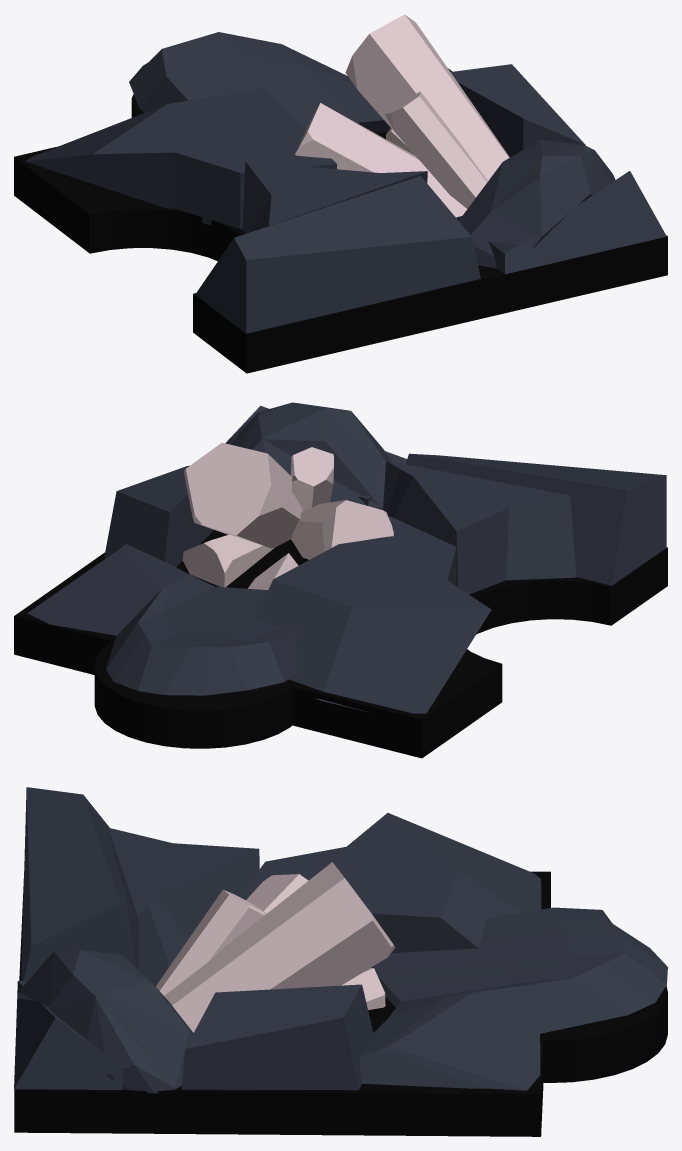
File: peça 4.fbx
3 renders of one model, top to bottom at view 1: azimuth 30°, elevation 25°; view 2: azimuth 150°, elevation 25°; view 3: azimuth 270°, elevation 25°, orthographic. The views are drawn at different scales.
Parts seen in each view (by area): view 1: Cube.037, crystal_basalt_white.001, peça4, Cube.036; view 2: Cube.037, peça4, crystal_basalt_white.001; view 3: Cube.037, crystal_basalt_white.001, peça4, Cube.036.
Boxes of the visible parts, x1,y1,x2,y2 form: Cube.037: (25, 32, 585, 333); crystal_basalt_white.001: (294, 14, 615, 268); peça4: (14, 68, 667, 373); Cube.036: (456, 171, 666, 274); Cube.037: (27, 453, 666, 713); peça4: (14, 530, 667, 758); crystal_basalt_white.001: (182, 402, 393, 589); Cube.037: (21, 787, 667, 1090); crystal_basalt_white.001: (17, 862, 395, 1093); peça4: (14, 871, 667, 1136); Cube.036: (14, 981, 122, 1089).
Bounding box in the file's own units: 1143 × 458 × 1393.
